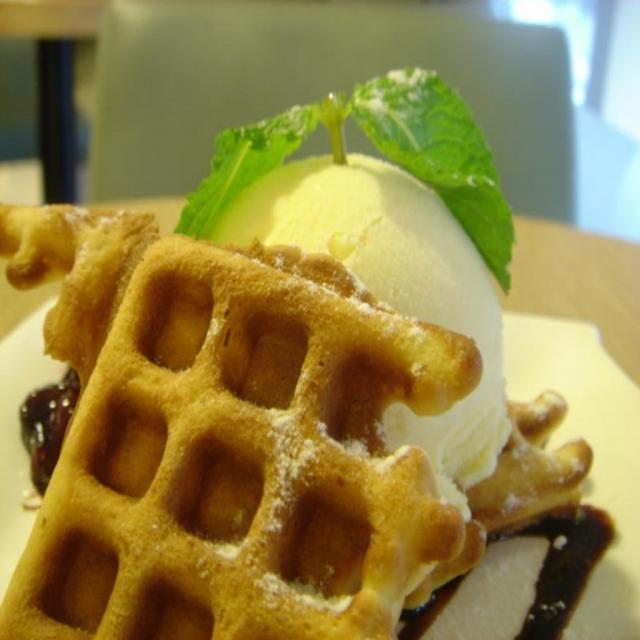Waffle: (1, 204, 483, 639), (461, 391, 597, 550)
